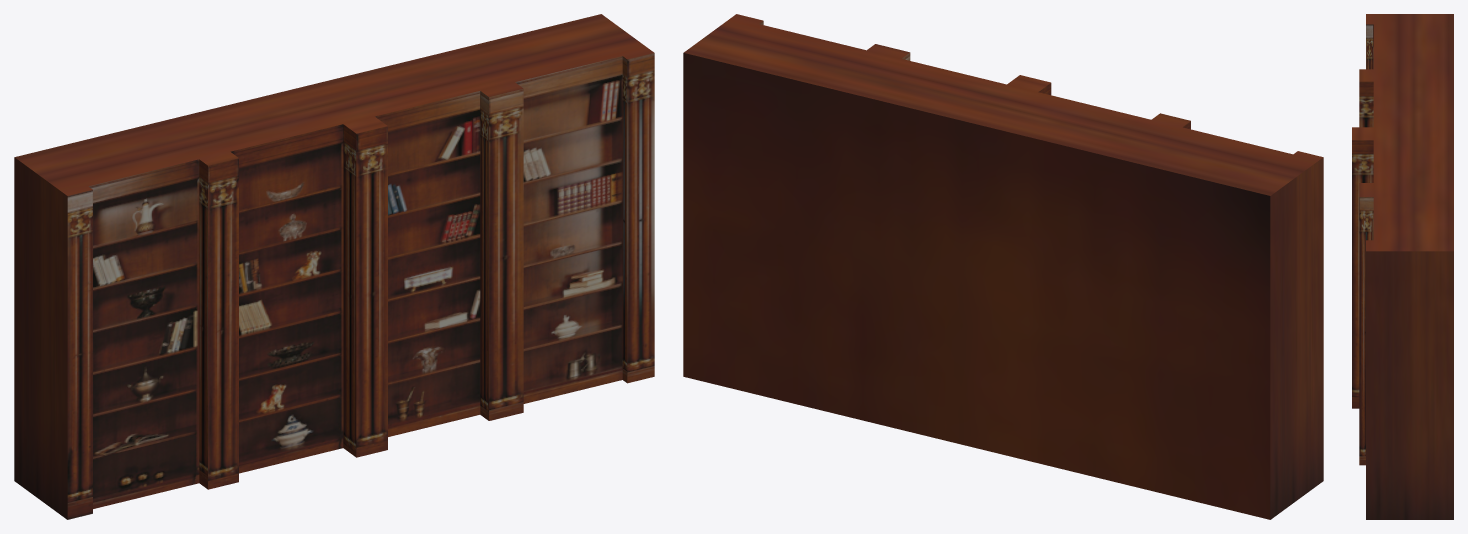
Rendered from wardrobe_3.fbx.
3 renders of one model, left to right at view 1: azimuth 30°, elevation 25°; view 2: azimuth 150°, elevation 25°; view 3: azimuth 270°, elevation 25°, orthographic. The views are drawn at different scales.
Parts seen in each view (by area): view 1: Cube.001; view 2: Cube.001; view 3: Cube.001.
Boxes of the visible parts, box(x1,y1,x2,y2) form: Cube.001: box(14, 14, 654, 519); Cube.001: box(683, 14, 1323, 519); Cube.001: box(1352, 14, 1453, 519).
Bounding box in the file's own units: 379 × 200 × 68.76.
